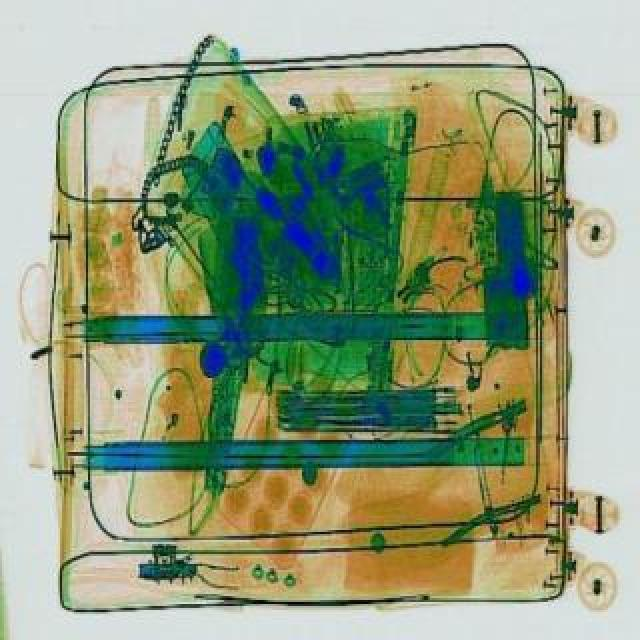wrench: (330, 182, 424, 270)
